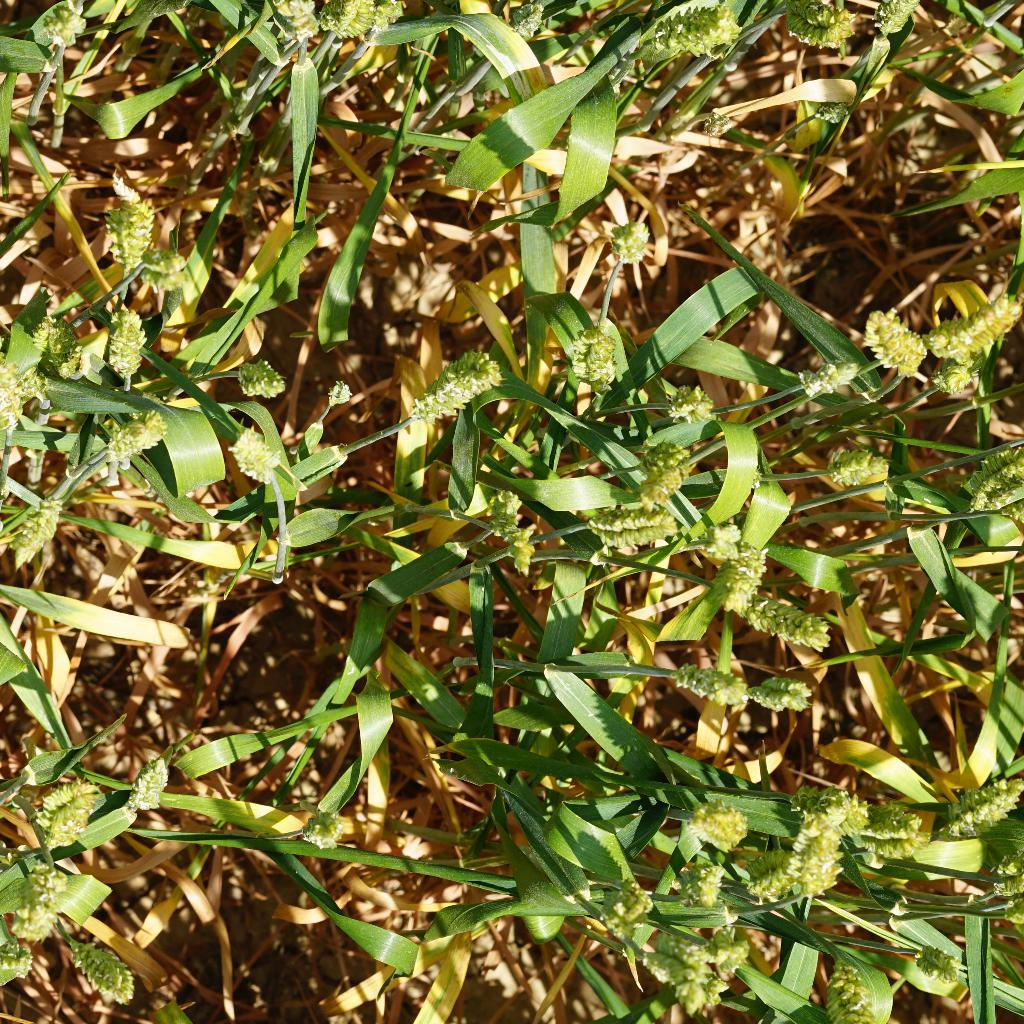0-0: (627, 919, 748, 1016), (927, 744, 1024, 839), (415, 337, 500, 425), (570, 500, 691, 561), (627, 0, 744, 63), (94, 170, 161, 277), (727, 591, 838, 651), (933, 286, 1020, 362), (477, 482, 549, 571), (19, 294, 93, 380), (687, 781, 759, 866), (29, 768, 104, 848), (862, 294, 931, 380), (778, 825, 852, 904), (950, 441, 1024, 517), (60, 934, 142, 1002), (578, 876, 668, 937), (8, 490, 78, 567), (815, 950, 887, 1024), (785, 765, 866, 830), (4, 848, 58, 945), (564, 320, 632, 396), (89, 402, 178, 460), (107, 296, 161, 385), (770, 0, 858, 53), (675, 658, 754, 716), (683, 522, 776, 570), (710, 539, 772, 608), (225, 422, 286, 490), (318, 0, 410, 45), (813, 441, 897, 488), (860, 793, 922, 856), (909, 934, 971, 994), (599, 214, 662, 272), (746, 668, 819, 718), (288, 799, 352, 854), (675, 851, 735, 909), (796, 351, 863, 402), (686, 923, 754, 972), (657, 376, 721, 428), (225, 355, 298, 400), (623, 464, 686, 514), (31, 0, 96, 48), (862, 0, 933, 43), (134, 242, 192, 294), (740, 854, 796, 907), (260, 1, 321, 47), (0, 350, 34, 432), (923, 351, 984, 393), (126, 759, 178, 808), (635, 438, 697, 475), (0, 937, 43, 983), (503, 2, 557, 38), (810, 89, 855, 130), (320, 377, 355, 411), (700, 109, 734, 138)
